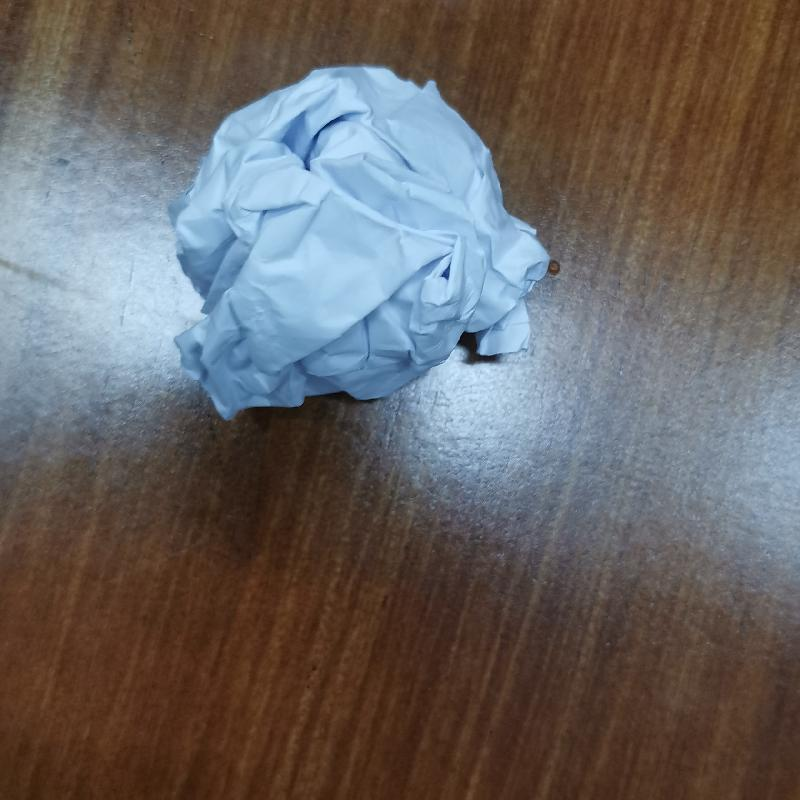spitball: (161, 60, 562, 424)
